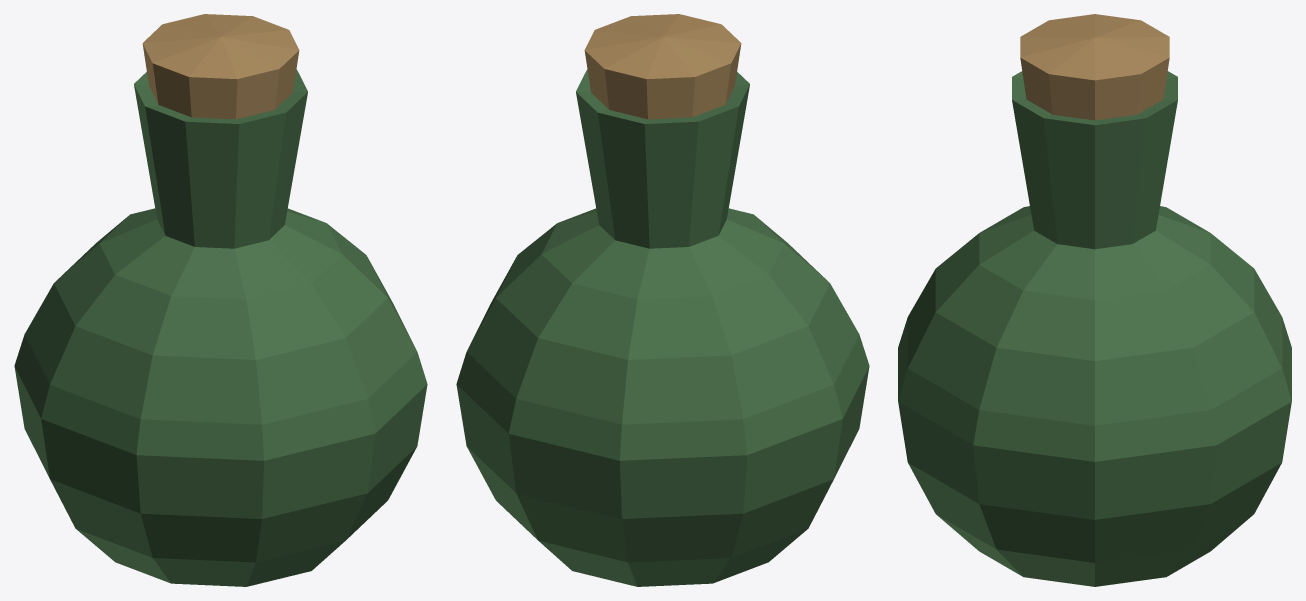
Rendered from Bottle_Green.fbx.
The picture shows the model from 3 angles, left to right: view 1: azimuth 30°, elevation 25°; view 2: azimuth 150°, elevation 25°; view 3: azimuth 270°, elevation 25°; orthographic projection.
Parts seen in each view (by area): view 1: pSphere1; view 2: pSphere1; view 3: pSphere1.
Part boxes in pixels (x1=…): pSphere1: x1=14, y1=14, x2=427, y2=586; pSphere1: x1=456, y1=14, x2=869, y2=586; pSphere1: x1=898, y1=14, x2=1291, y2=586.
Bounding box in the file's own units: 2 × 2.65 × 1.9.
